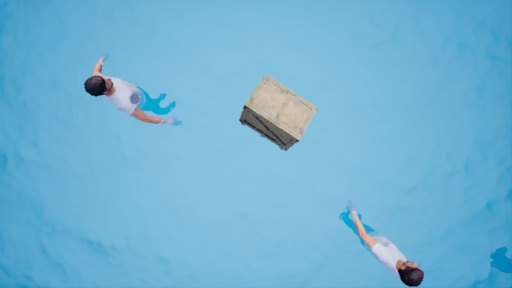person: (88, 56, 182, 135), (343, 203, 423, 286)
